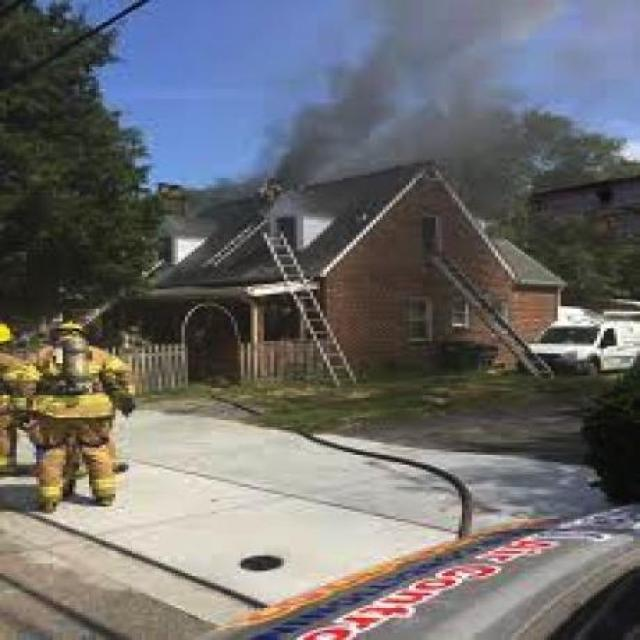Smoke: (272, 0, 560, 192)
